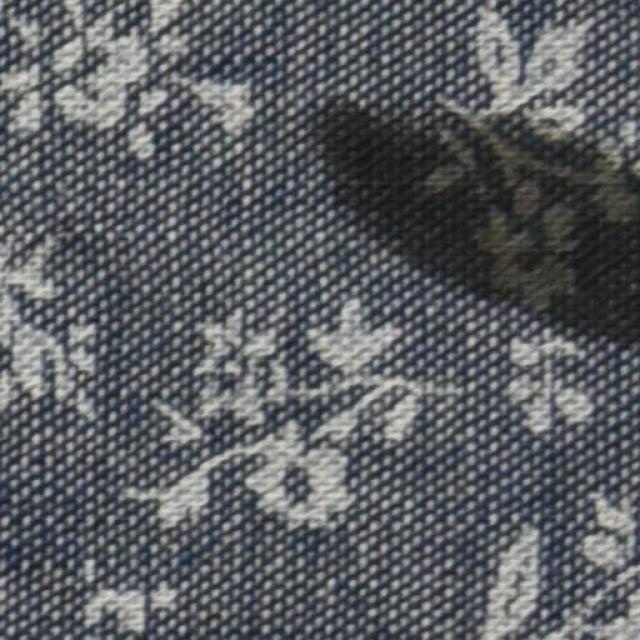Stain: (298, 93, 639, 349)
